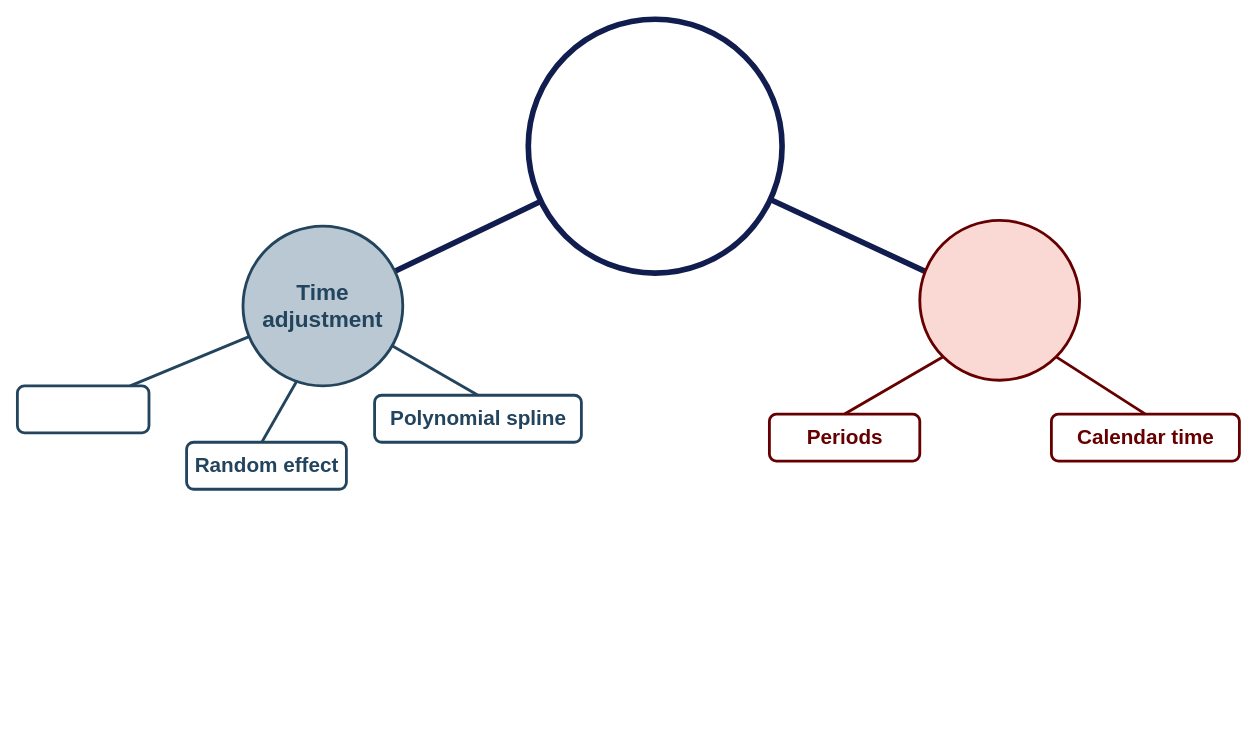
This 1257x734 diagram has some shape labels left out. The box of each missing label's shape, as (x1, y1, x2, y2) in pixels:
Fixed effect: (16, 384, 150, 434)
Models: (525, 16, 784, 275)
Time definition: (918, 219, 1081, 381)
